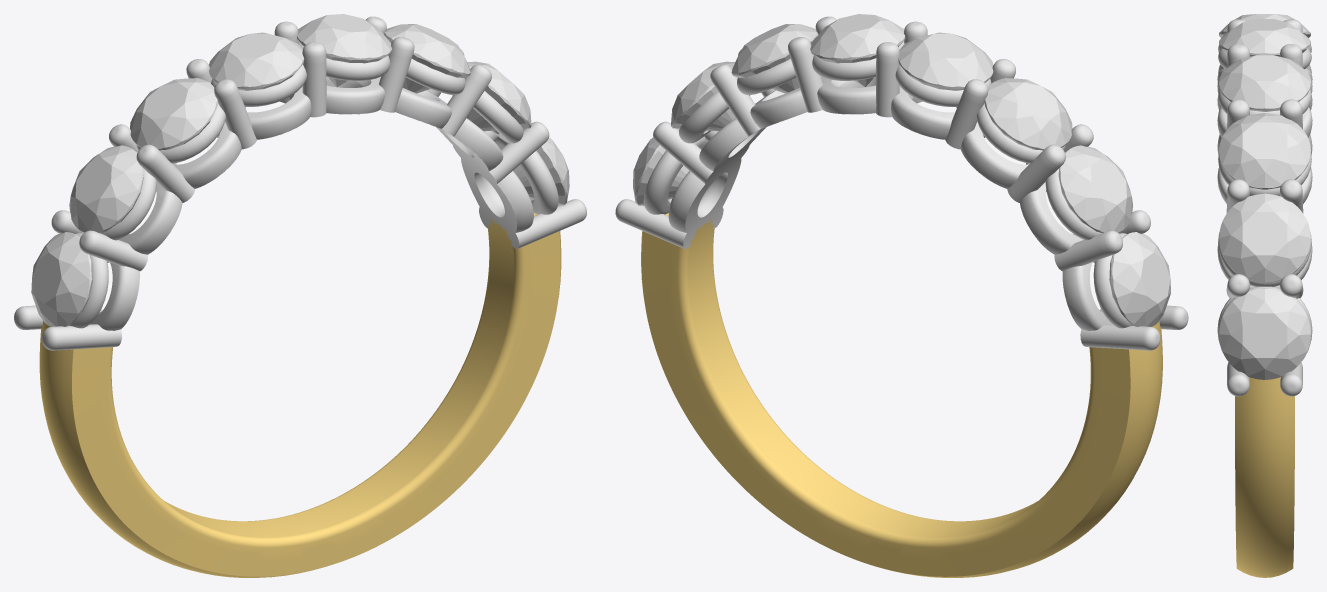
The model's file is Sarah_8_stone_blender.glb.
3 views of the same model, side by side, from view 1: azimuth 30°, elevation 25°; view 2: azimuth 150°, elevation 25°; view 3: azimuth 270°, elevation 25° (orthographic). The views are drawn at different scales.
Visible parts, largest first — view 1: 8 stone YG for 3d model, 8 stone PT for 3d model, 8 stone dia for 3d model.002, 8 stone dia for 3d model.001, 8 stone dia for 3d model.003, 8 stone dia for 3d model, 8 stone dia for 3d model.007, 8 stone dia for 3d model.006, 8 stone dia for 3d model.005, 8 stone dia for 3d model.004; view 2: 8 stone YG for 3d model, 8 stone PT for 3d model, 8 stone dia for 3d model.002, 8 stone dia for 3d model.001, 8 stone dia for 3d model.003, 8 stone dia for 3d model, 8 stone dia for 3d model.007, 8 stone dia for 3d model.006, 8 stone dia for 3d model.005, 8 stone dia for 3d model.004; view 3: 8 stone YG for 3d model, 8 stone PT for 3d model, 8 stone dia for 3d model.004, 8 stone dia for 3d model.005, 8 stone dia for 3d model.006, 8 stone dia for 3d model.007, 8 stone dia for 3d model, 8 stone dia for 3d model.001.
Part boxes in pixels (box(x1,y1,x2,y2)): 8 stone YG for 3d model: box(39, 213, 561, 577); 8 stone PT for 3d model: box(14, 16, 586, 350); 8 stone dia for 3d model.002: box(69, 145, 143, 233); 8 stone dia for 3d model.001: box(130, 78, 217, 150); 8 stone dia for 3d model.003: box(31, 232, 92, 326); 8 stone dia for 3d model: box(209, 32, 304, 90); 8 stone dia for 3d model.007: box(297, 14, 391, 86); 8 stone dia for 3d model.006: box(384, 24, 470, 93); 8 stone dia for 3d model.005: box(467, 61, 531, 131); 8 stone dia for 3d model.004: box(513, 128, 569, 205); 8 stone YG for 3d model: box(641, 213, 1162, 577); 8 stone PT for 3d model: box(615, 16, 1188, 350); 8 stone dia for 3d model.002: box(1058, 145, 1132, 232); 8 stone dia for 3d model.001: box(984, 78, 1072, 150); 8 stone dia for 3d model.003: box(1109, 232, 1170, 326); 8 stone dia for 3d model: box(898, 32, 993, 90); 8 stone dia for 3d model.007: box(810, 14, 905, 86); 8 stone dia for 3d model.006: box(731, 24, 818, 93); 8 stone dia for 3d model.005: box(671, 61, 735, 131); 8 stone dia for 3d model.004: box(633, 128, 689, 205); 8 stone YG for 3d model: box(1235, 377, 1294, 577); 8 stone PT for 3d model: box(1217, 19, 1312, 396); 8 stone dia for 3d model.004: box(1219, 288, 1310, 379); 8 stone dia for 3d model.005: box(1219, 193, 1310, 282); 8 stone dia for 3d model.006: box(1219, 113, 1310, 189); 8 stone dia for 3d model.007: box(1219, 53, 1310, 111); 8 stone dia for 3d model: box(1219, 19, 1310, 56); 8 stone dia for 3d model.001: box(1219, 14, 1310, 37).
Size of the model in its own units: 23.5 by 22.29 by 3.78.
